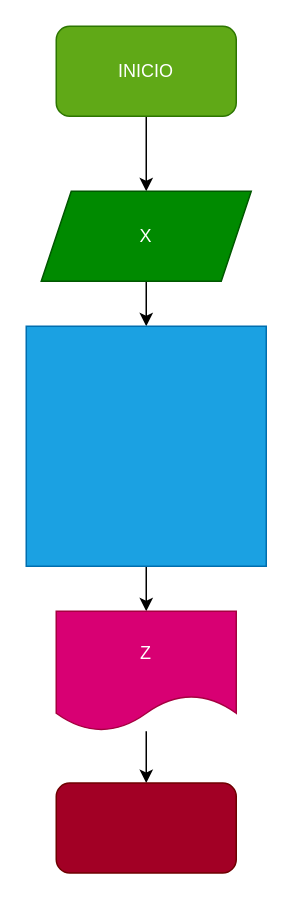
Image size: 293x900. Some labels were removed from this diagram. Here are the shapes that lost their labels. From the top down, the centre of each, then its label:
At point 145,445: "X1 (X % 10) X2 (X % 100 / 10) X3 (X % 1000 / 100) X4 (X - (X %1000) /1000)".
At point 145,827: "FIN".
